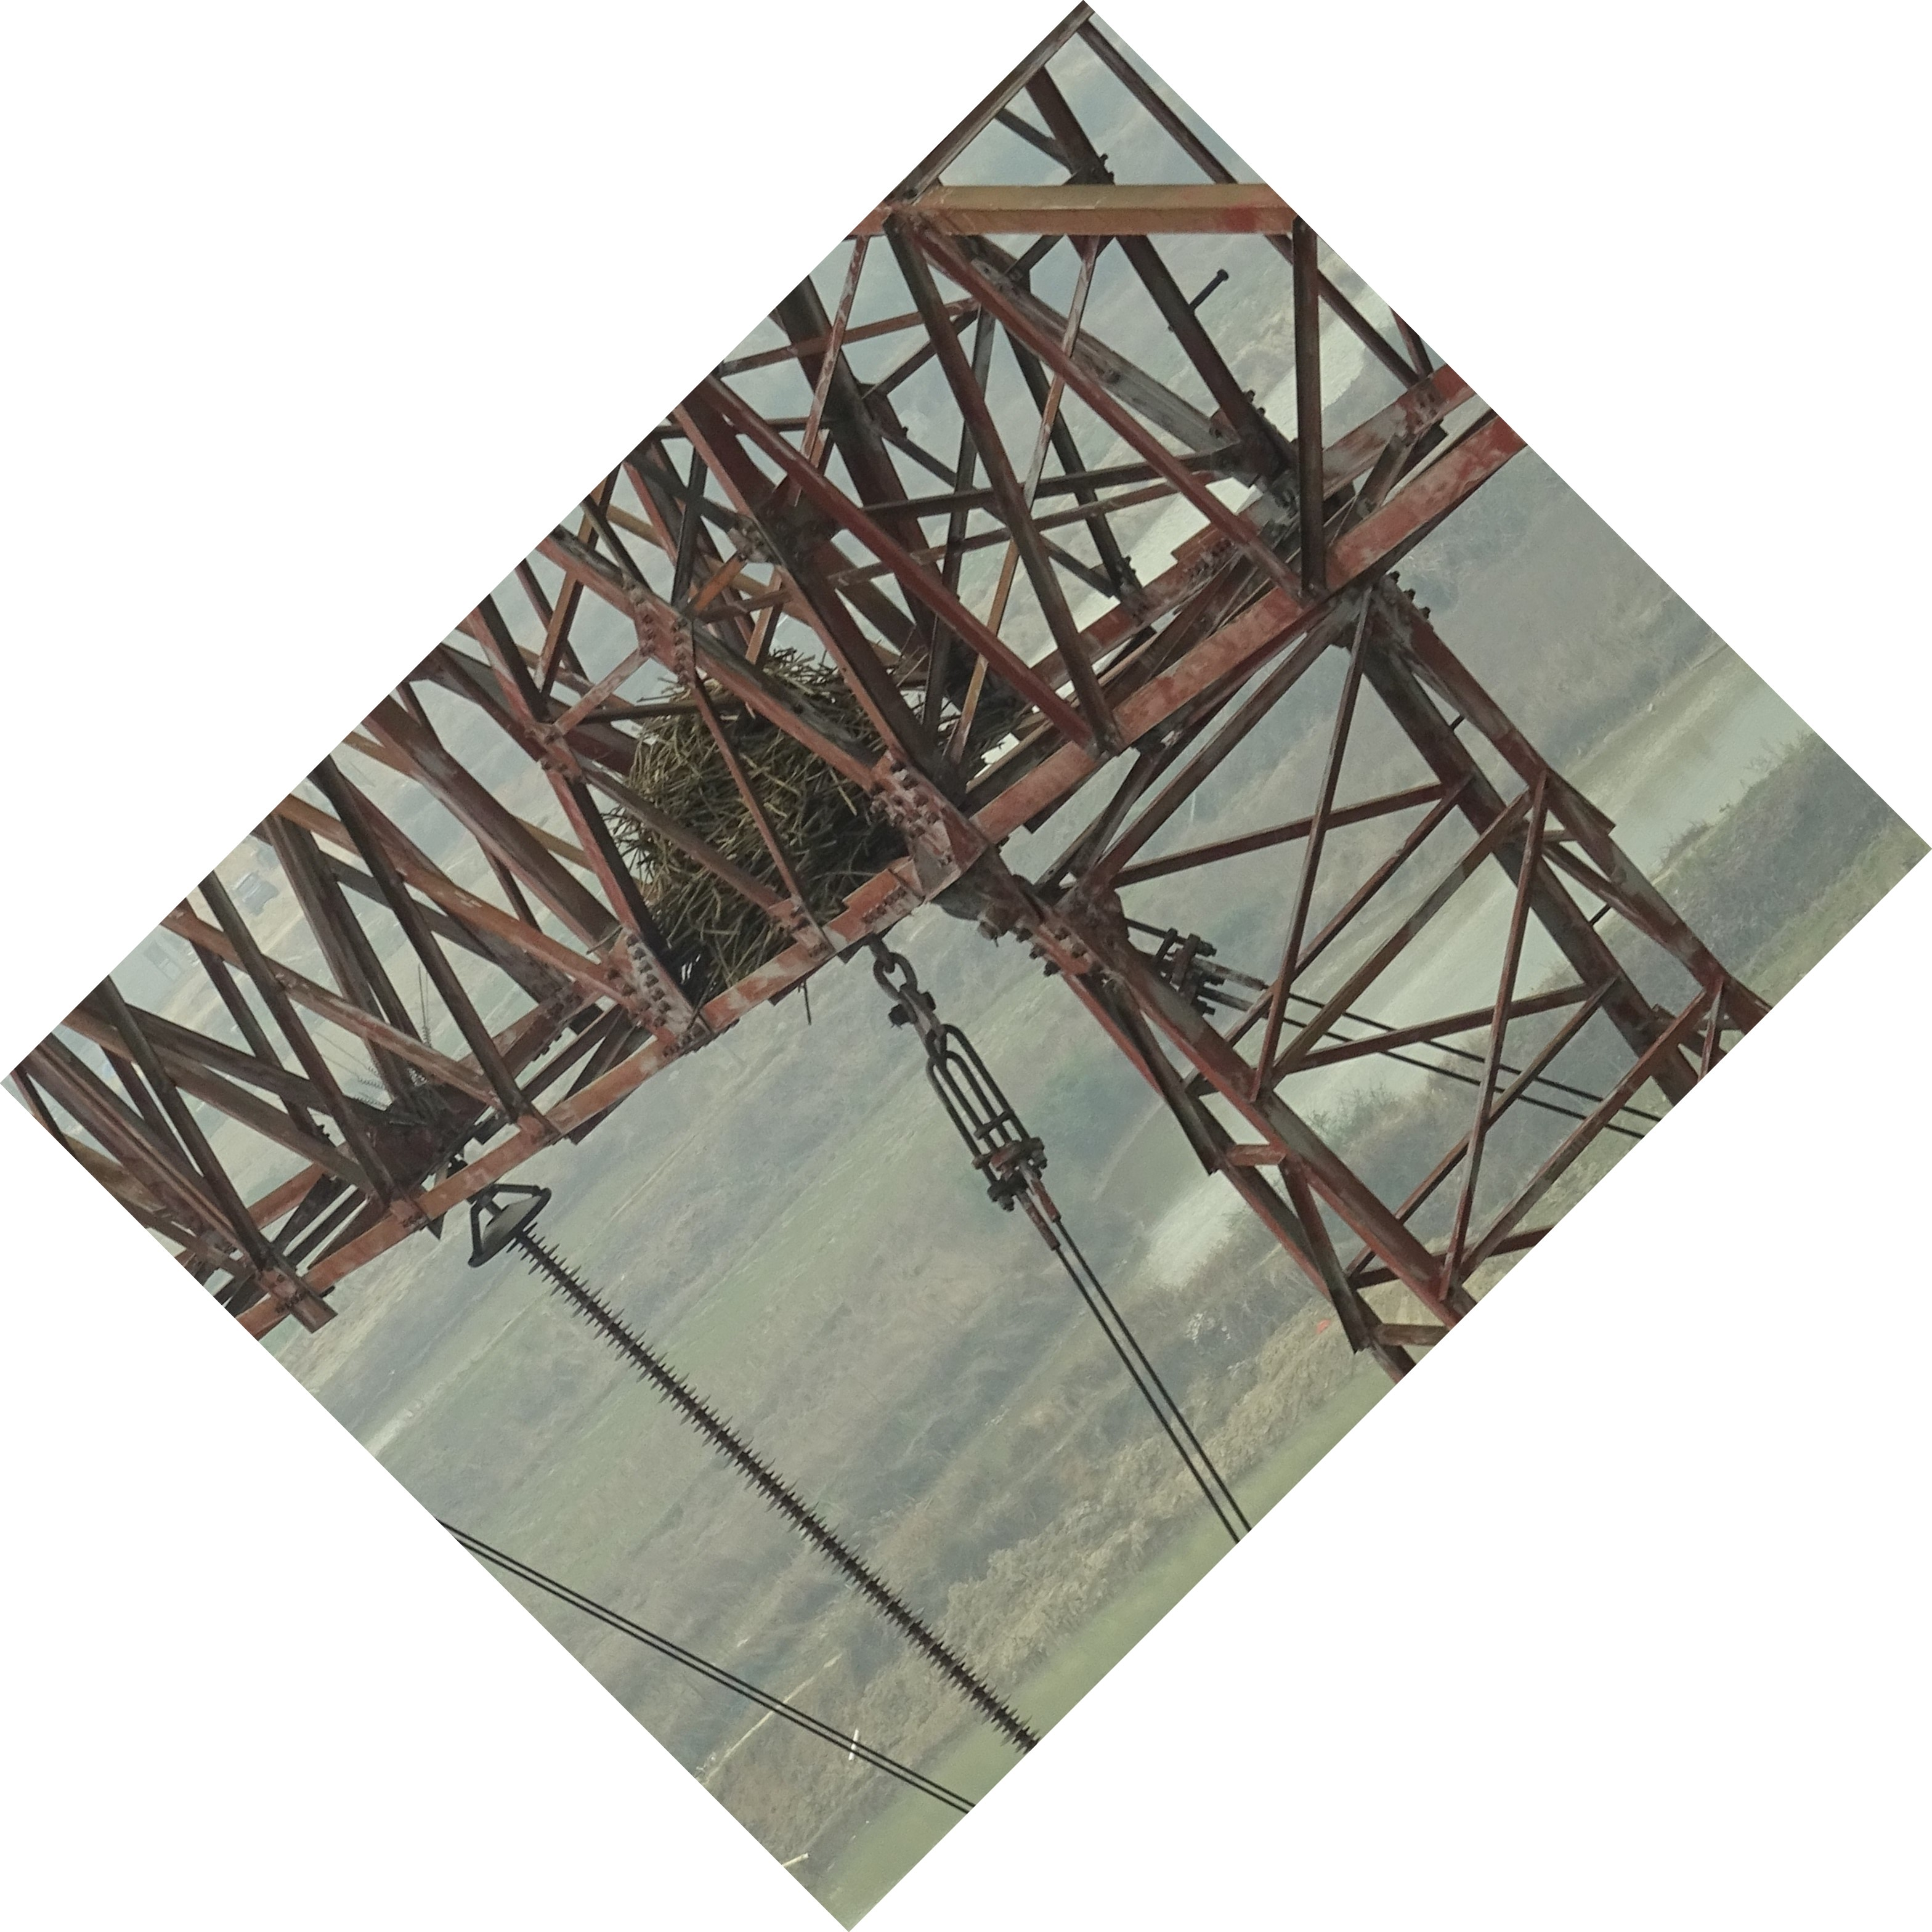niaowo: (575, 635, 950, 975)
